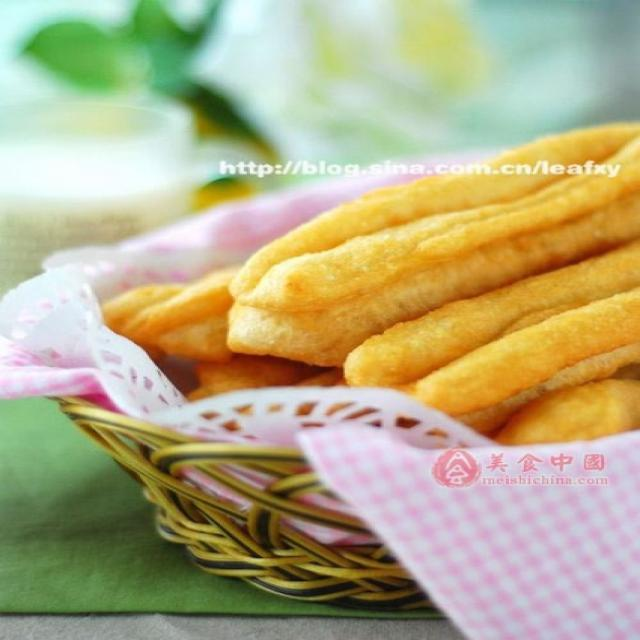炸货点心: (65, 98, 623, 526)
